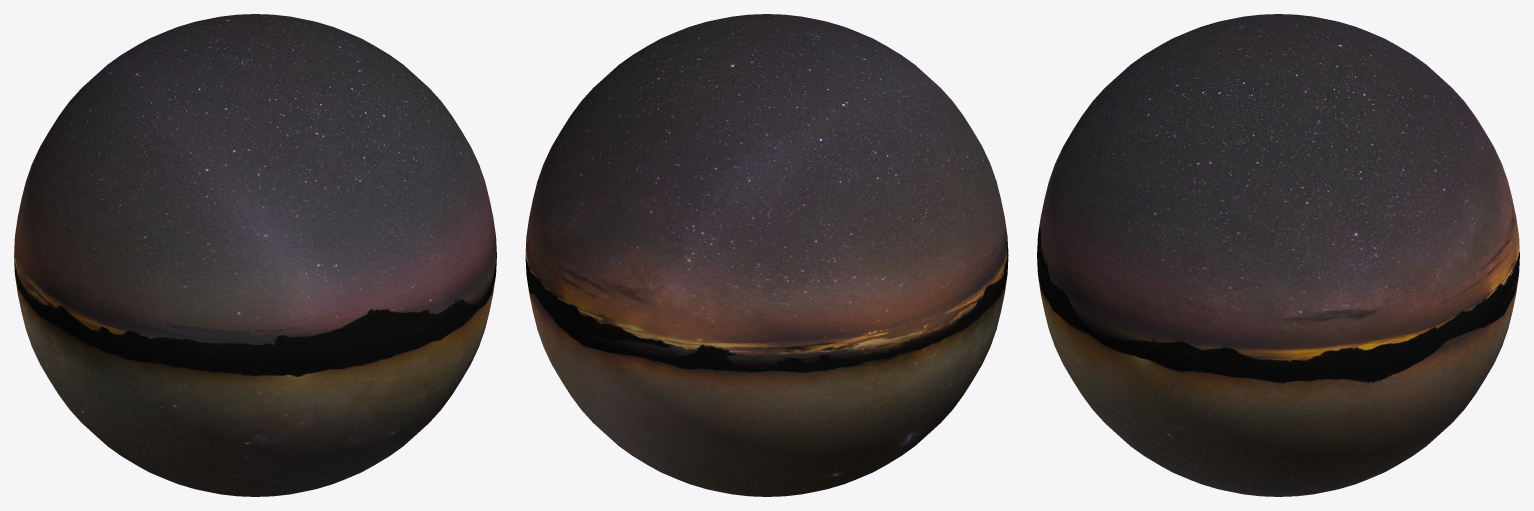
The model's file is Skybox.glb.
3 renders of one model, left to right at view 1: azimuth 30°, elevation 25°; view 2: azimuth 150°, elevation 25°; view 3: azimuth 270°, elevation 25°, orthographic.
Parts seen in each view (by area): view 1: node-0; view 2: node-0; view 3: node-0.
Part boxes in pixels (x1,y1,x2,y2): node-0: [14, 14, 496, 496]; node-0: [525, 14, 1008, 496]; node-0: [1037, 14, 1519, 496].
Size of the model in its own units: 2000 by 2000 by 2000.
1 material, 1 textured.
